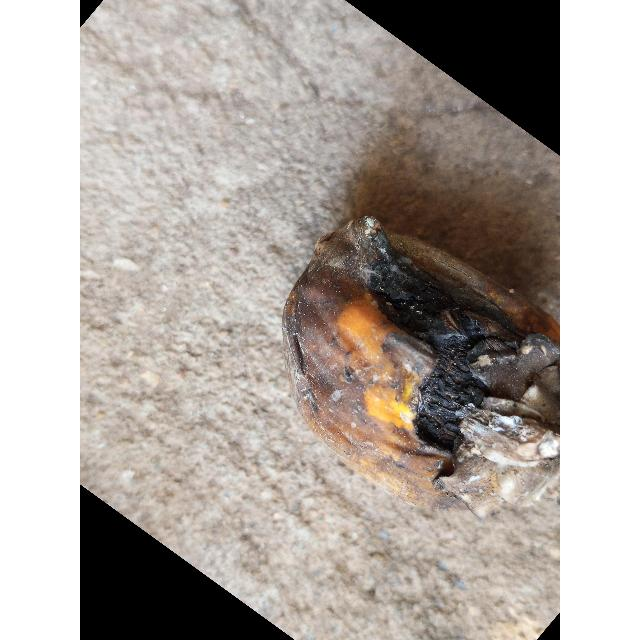damaged: (286, 218, 560, 515)
